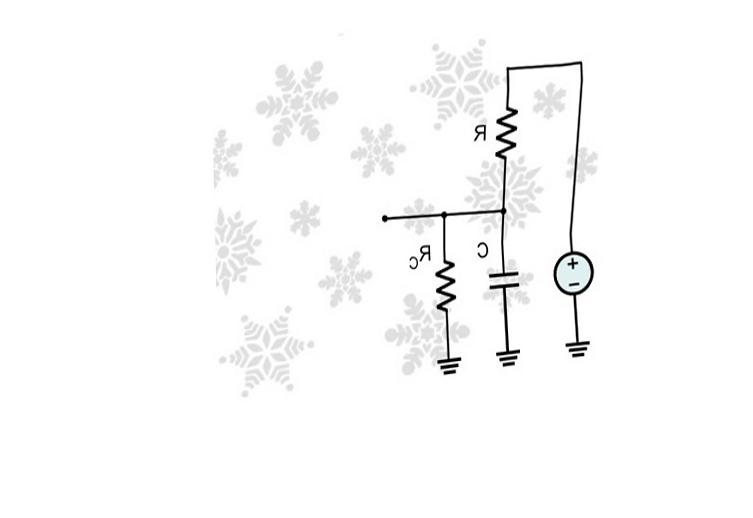Battery: (530, 239, 603, 307)
